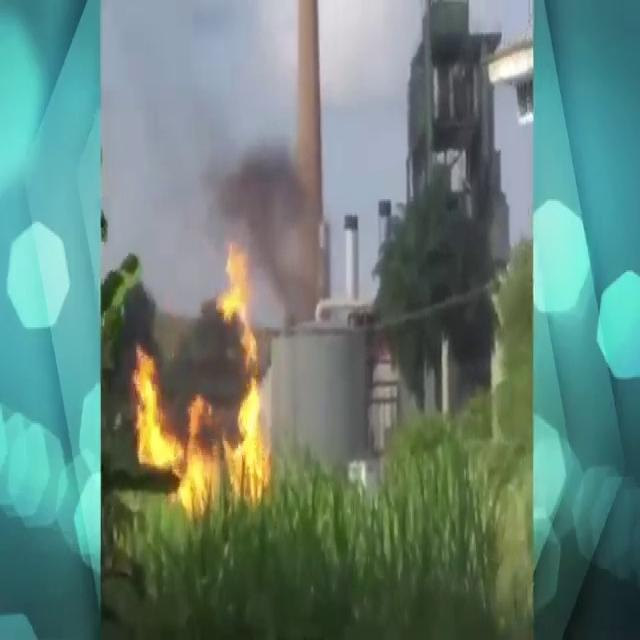Fire: (224, 391, 272, 501), (132, 338, 166, 436), (216, 237, 248, 321), (134, 418, 185, 470), (182, 446, 216, 514), (186, 391, 206, 448), (242, 316, 260, 368)
Smoke: (213, 140, 315, 320)
